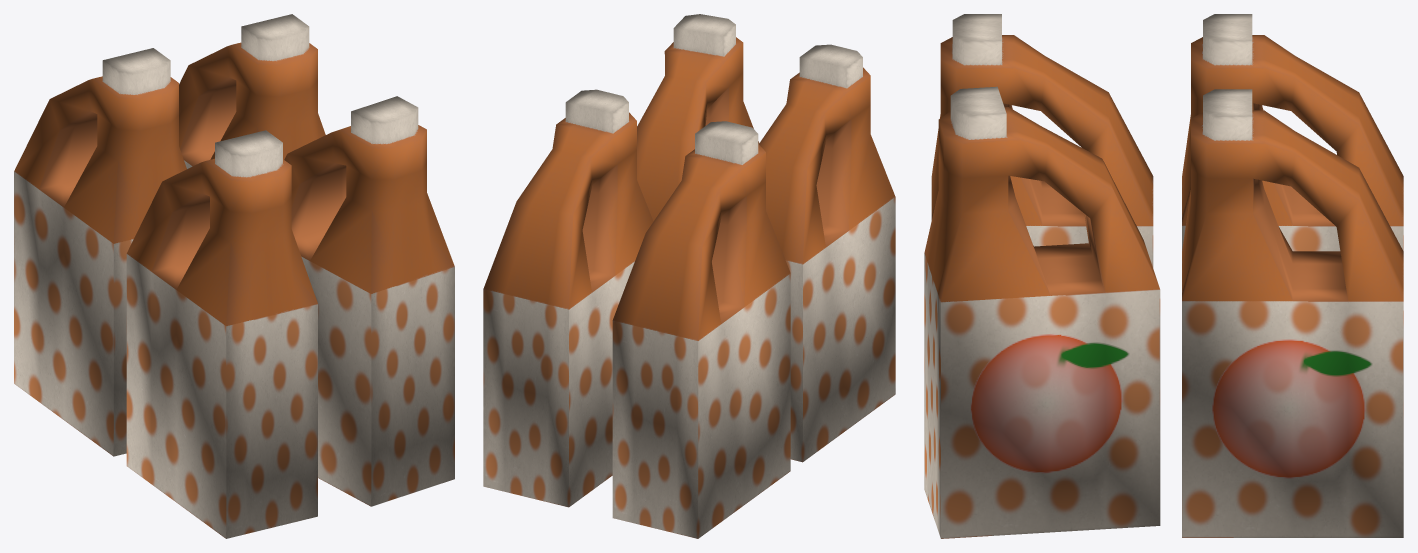
File: juiceJug_Large.fbx
3 renders of one model, left to right at view 1: azimuth 30°, elevation 25°; view 2: azimuth 150°, elevation 25°; view 3: azimuth 270°, elevation 25°, orthographic. The views are drawn at different scales.
Parts seen in each view (by area): view 1: juiceJug.001; view 2: juiceJug.001; view 3: juiceJug.001.
Part boxes in pixels (x1,y1,x2,y2): juiceJug.001: [14, 14, 454, 538]; juiceJug.001: [483, 14, 895, 538]; juiceJug.001: [924, 14, 1403, 538].
Bounding box in the file's own units: 478 × 722 × 766.
1 material, 1 textured.
